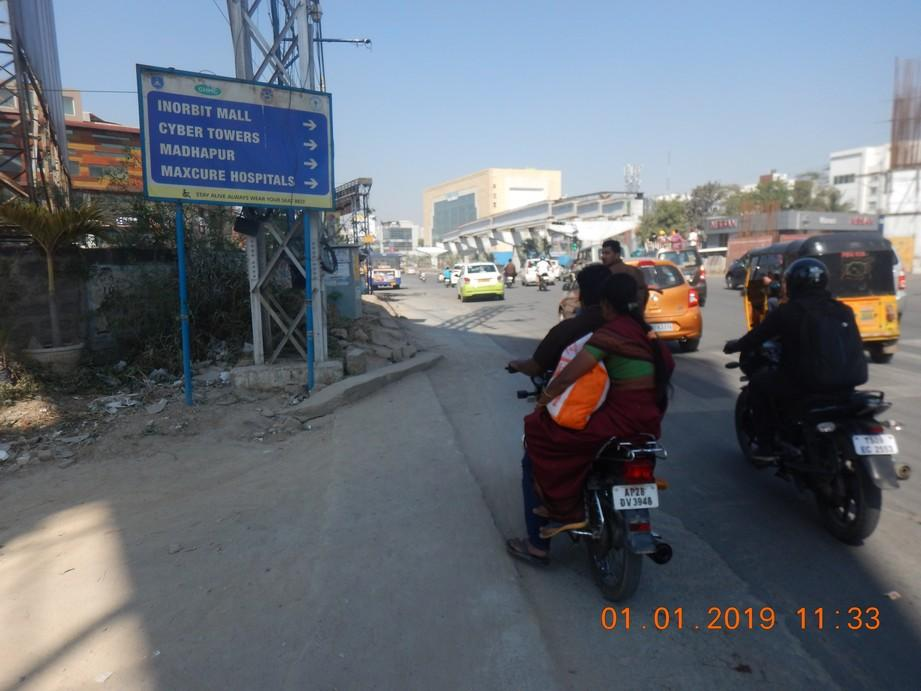plate: (611, 482, 662, 513), (852, 432, 898, 455)
